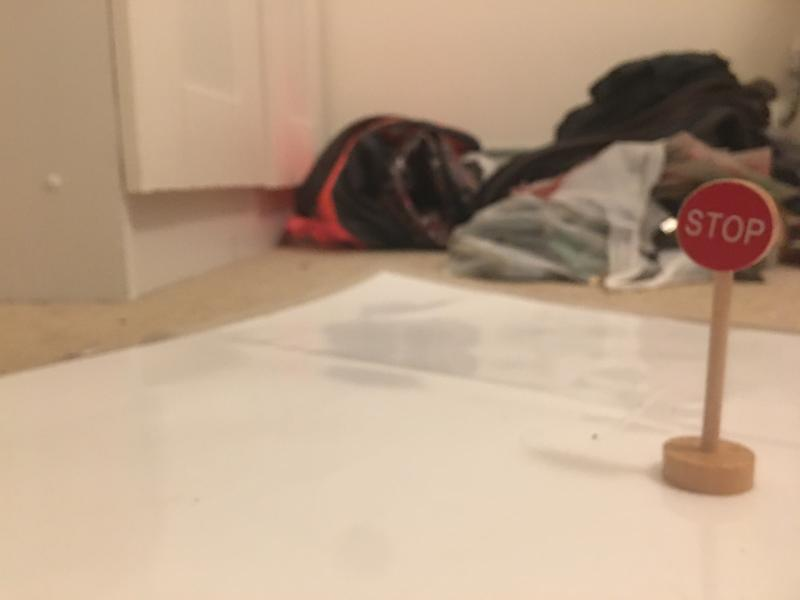Traffic_Sign_Stop: (678, 180, 776, 270)
